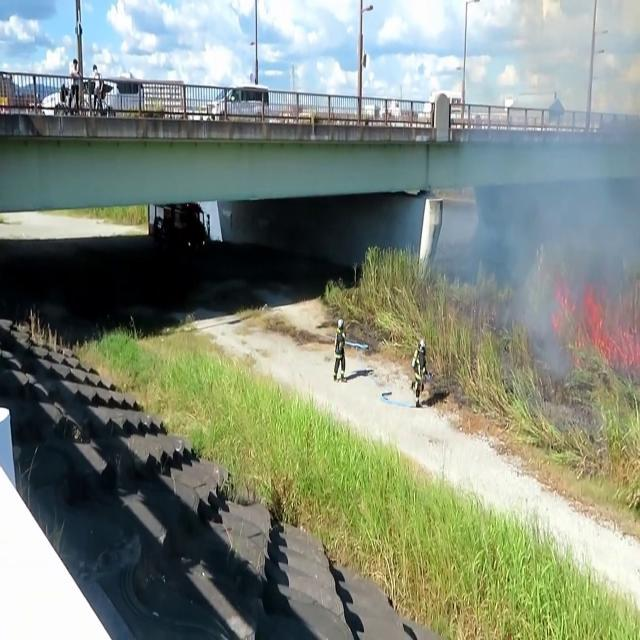Fire: (578, 286, 640, 428)
Smoke: (483, 41, 640, 384)
